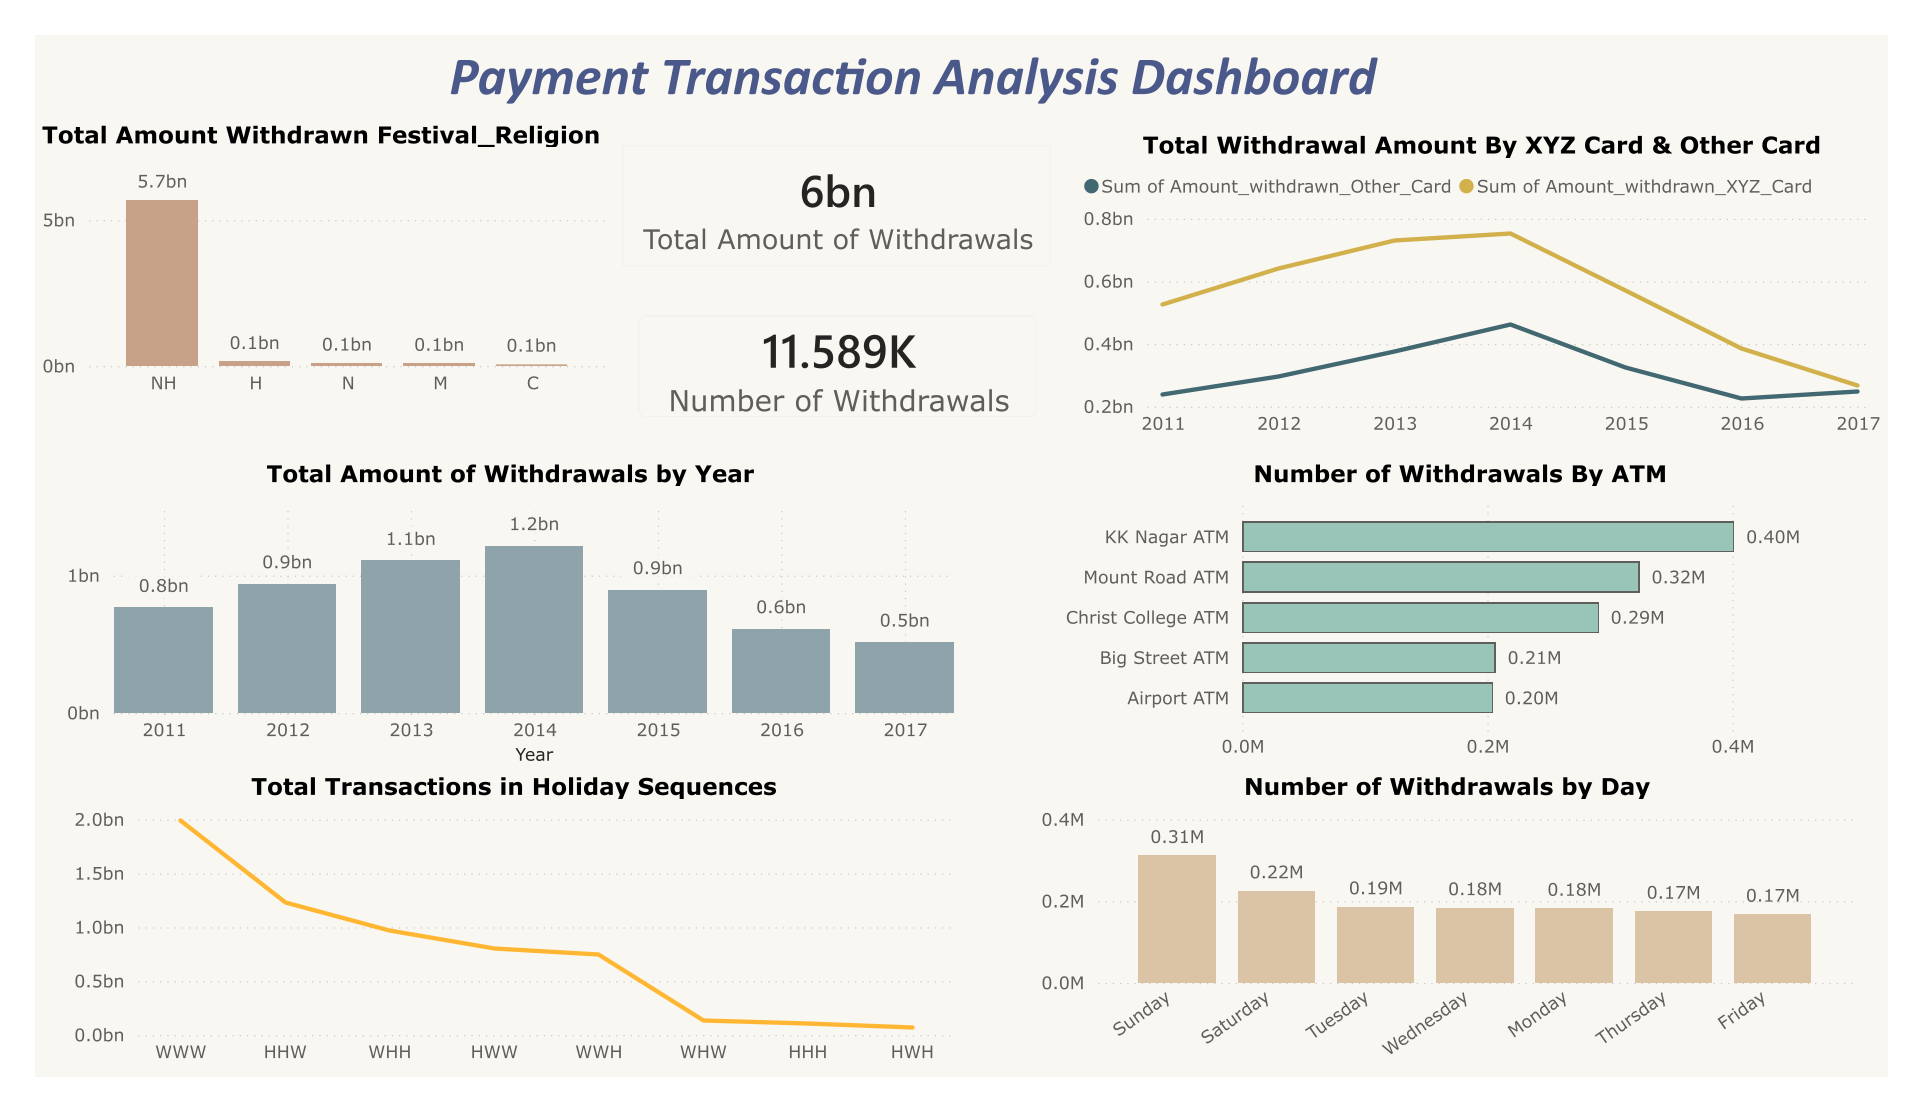

The page's visual inventory and layout, read from the dashboard file:
{"tool":"powerbi","page":{"name":"Page 1","canvas":[1280,720],"ordinal":0},"visuals":[{"type":"barChart","title":"Number of Withdrawals By ATM","fields":{"Category":["final_finance_dataset (1).ATM_Name"],"Y":["Sum(final_finance_dataset (1).No_Of_Withdrawals)"]},"box":[692,293.3,585.3,216],"z":0},{"type":"lineClusteredColumnComboChart","title":"Total Amount of Withdrawals by Year","fields":{"Y":["Sum(final_finance_dataset (1).Total_amount_Withdrawn)"],"Category":["final_finance_dataset (1).Transaction_Date.Variation.Date Hierarchy.Year"]},"box":[17.2,293.3,623.3,216],"z":1000},{"type":"lineChart","title":"Total Withdrawal Amount By XYZ Card & Other Card","fields":{"Y":["Sum(final_finance_dataset (1).Amount_withdrawn_Other_Card)","Sum(final_finance_dataset (1).Amount_withdrawn_XYZ_Card)"],"Category":["final_finance_dataset (1).Transaction_Date.Variation.Date Hierarchy.Year"]},"box":[719,66.3,560.7,219.6],"z":2000},{"type":"cardVisual","fields":{"Data":["Sum(final_finance_dataset (1).Total_amount_Withdrawn)"]},"box":[389,58.9,330.1,117.8],"z":3000},{"type":"cardVisual","fields":{"Data":["CountNonNull(final_finance_dataset (1).No_Of_Withdrawals)"]},"box":[400,176.7,309.2,104.3],"z":4000},{"type":"lineChart","title":"Total Transactions in Holiday Sequences","fields":{"Category":["final_finance_dataset (1).Holiday_Sequence"],"Y":["Sum(final_finance_dataset (1).Total_amount_Withdrawn)"]},"box":[22.1,509.2,618.4,211],"z":5000},{"type":"clusteredColumnChart","title":"Total Amount Withdrawn Festival_Religion","fields":{"Category":["final_finance_dataset (1).Festival_Religion"],"Y":["Sum(final_finance_dataset (1).Total_amount_Withdrawn)"]},"box":[0,58.9,400,198.8],"z":6000},{"type":"clusteredColumnChart","title":"Number of Withdrawals by Day","fields":{"Y":["Sum(final_finance_dataset (1).No_Of_Withdrawals)"],"Category":["final_finance_dataset (1).Weekday"]},"box":[689.6,509.2,571.8,211],"z":7000},{"type":"textbox","box":[233.1,0,814.7,58.9],"z":7012}]}

Visuals, with their boxes in screenshot pixels (x1, y1, x2, y2), scaled from the page's 1280x720 canvas onto the 1922x1112 screenshot:
"Number of Withdrawals By ATM" barChart: rect(1039, 453, 1918, 787)
"Total Amount of Withdrawals by Year" lineClusteredColumnComboChart: rect(26, 453, 962, 787)
"Total Withdrawal Amount By XYZ Card & Other Card" lineChart: rect(1080, 102, 1921, 442)
cardVisual - Sum(final_finance_dataset (1).Total_amount_Withdrawn): rect(584, 91, 1080, 273)
cardVisual - CountNonNull(final_finance_dataset (1).No_Of_Withdrawals): rect(601, 273, 1065, 434)
"Total Transactions in Holiday Sequences" lineChart: rect(33, 786, 962, 1111)
"Total Amount Withdrawn Festival_Religion" clusteredColumnChart: rect(0, 91, 601, 398)
"Number of Withdrawals by Day" clusteredColumnChart: rect(1035, 786, 1894, 1111)
textbox: rect(350, 0, 1573, 91)
